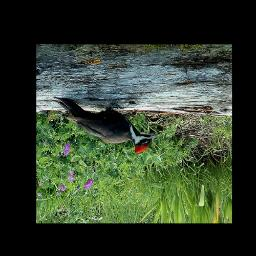Woodpecker: (53, 98, 160, 154)
